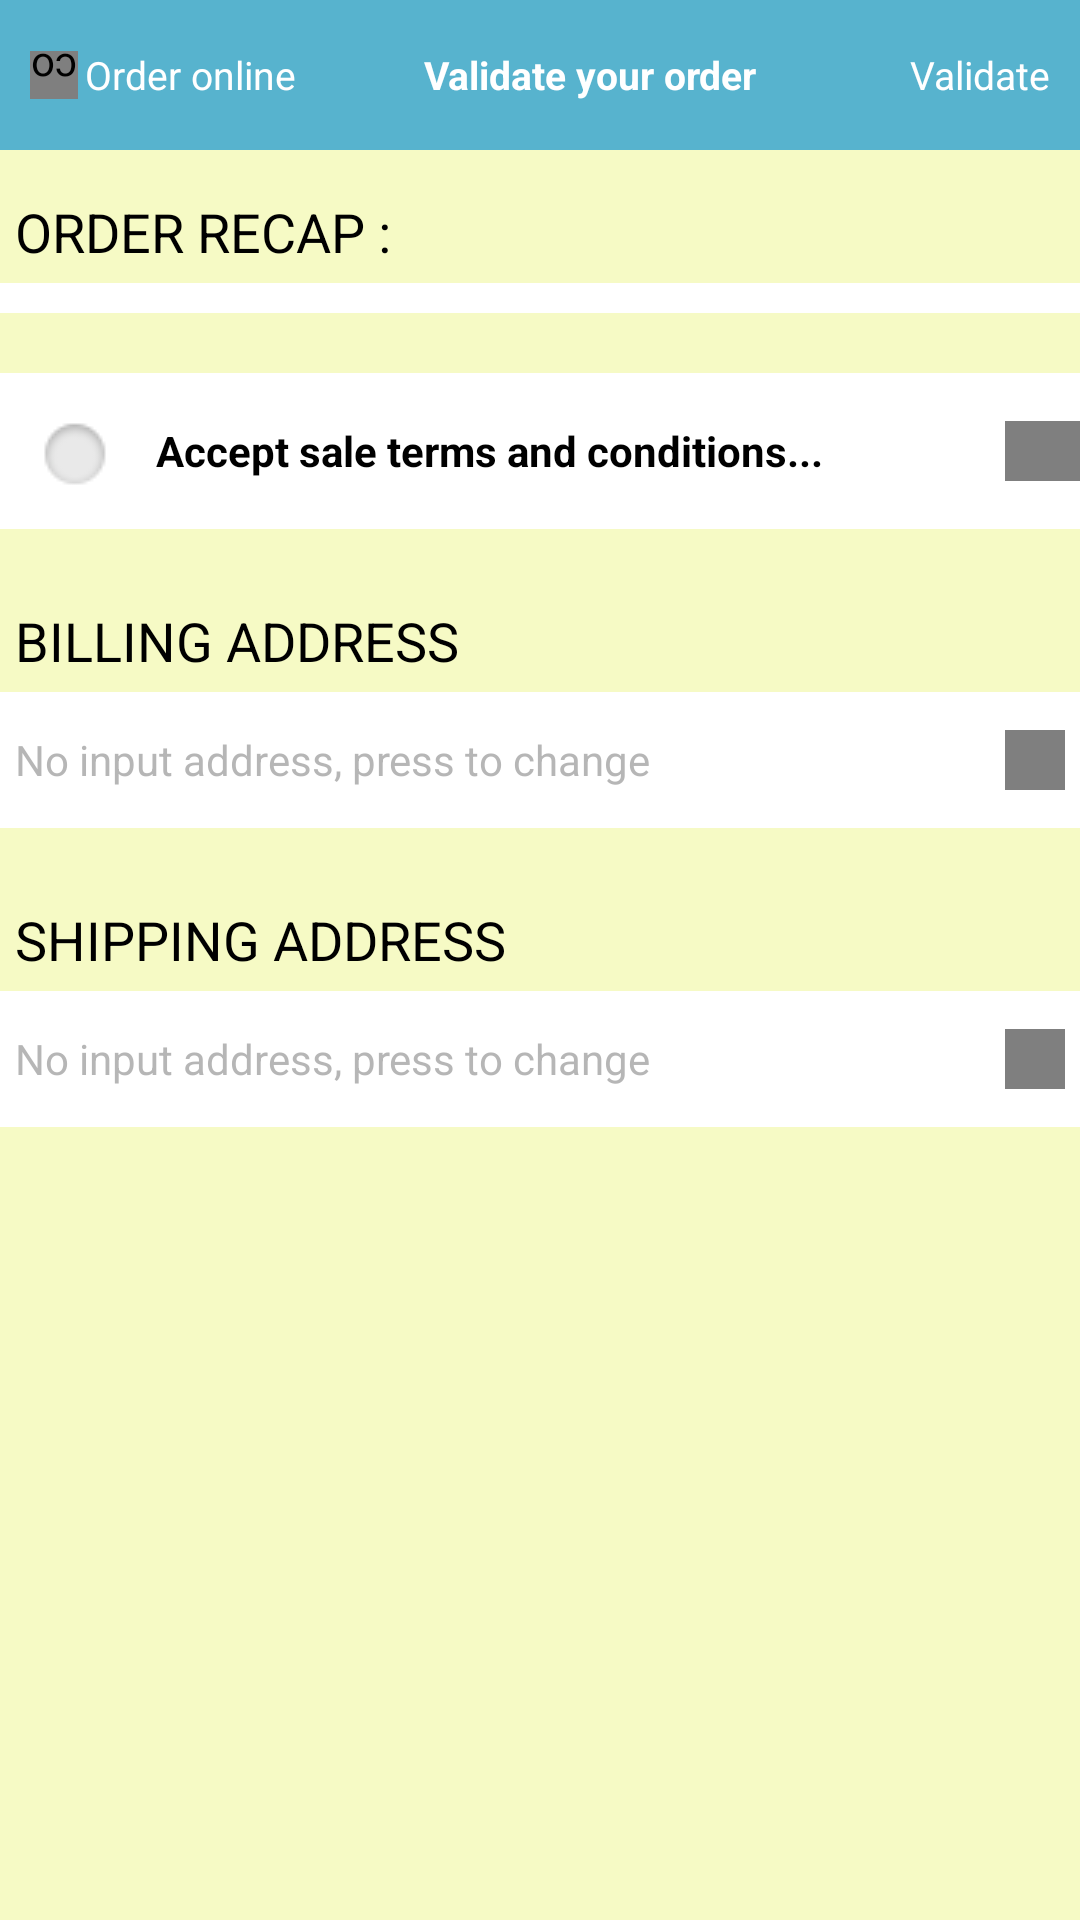

Icon click points for this 1080x1920 phone screenshot, format (x=x, y=y):
checkmark off: (x=75, y=454)
